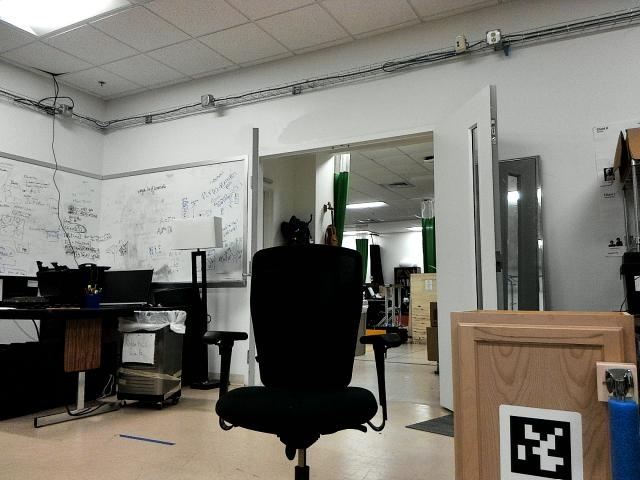noodle_handle: (605, 395, 640, 480)
